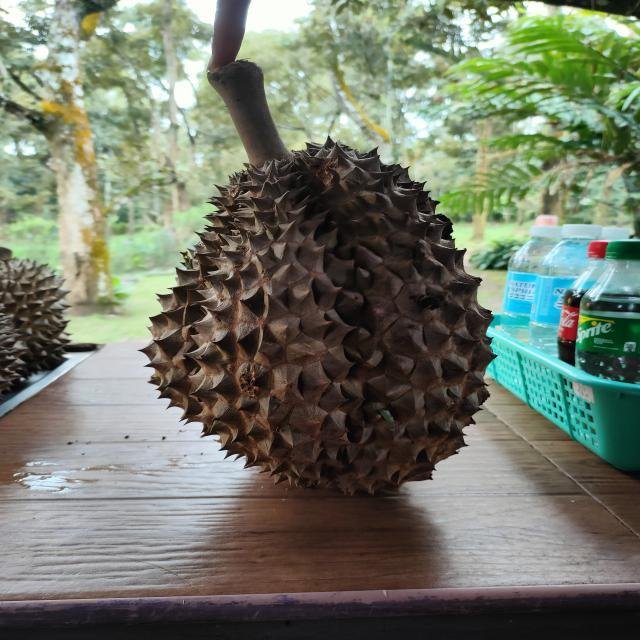mature: (143, 139, 493, 494)
